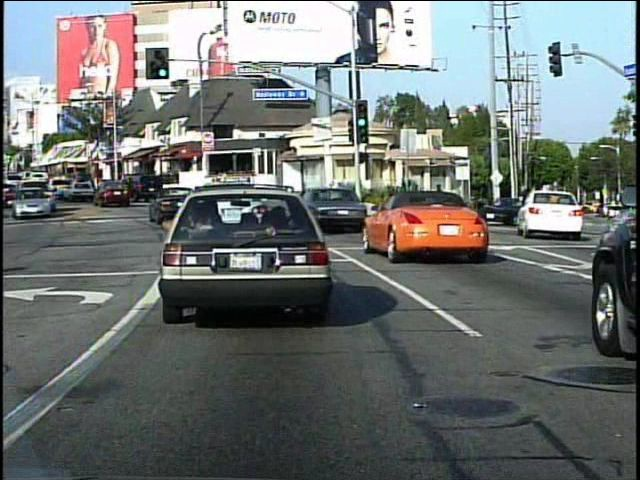person: (431, 182, 447, 221)
